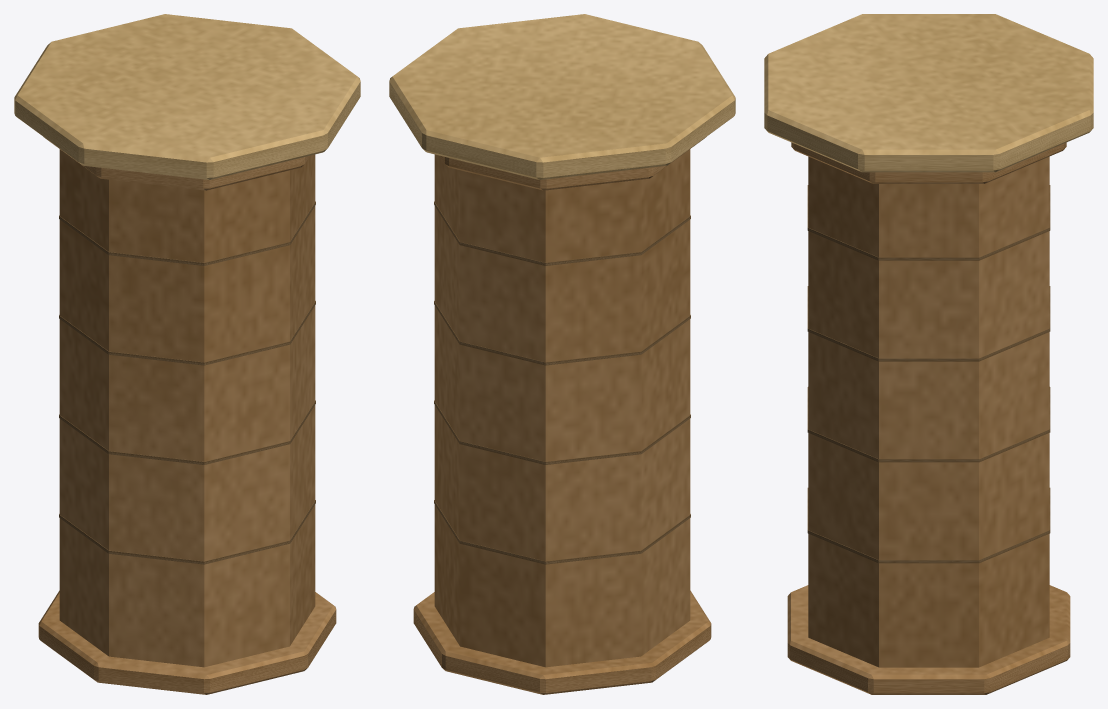
Rendered from TurretPedestal.obj.
The picture shows the model from 3 angles, left to right: view 1: azimuth 30°, elevation 25°; view 2: azimuth 150°, elevation 25°; view 3: azimuth 270°, elevation 25°; orthographic projection.
Visible parts, largest first — view 1: TurretPedestal; view 2: TurretPedestal; view 3: TurretPedestal.
Part boxes in pixels (<box>): TurretPedestal: <box>14,14,360,694</box>; TurretPedestal: <box>389,14,735,694</box>; TurretPedestal: <box>764,14,1093,694</box>.
Size of the model in its own units: 11.83 by 22 by 11.83.
Materials: 3 (3 with a texture image).
